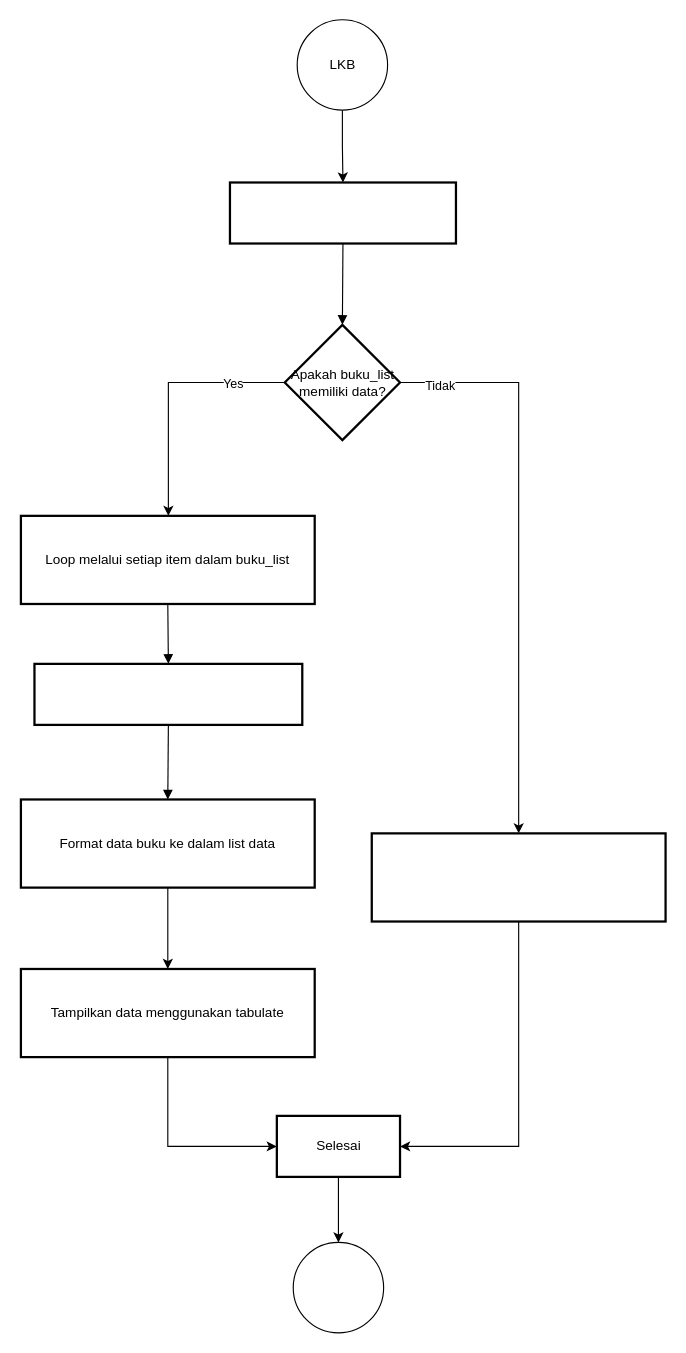
Some shapes in this 686 by 1353 pixel diagram are drawn without their labels. The box of each missing label's shape, as (x1, y1, x2, y2) in pixels:
Ambil ID dan detail buku: (33, 662, 303, 725)
Inisialisasi List data: (228, 181, 457, 244)
Tampilkan pesan 'Daftar Buku Perpustakaan Kosong': (370, 832, 666, 922)
